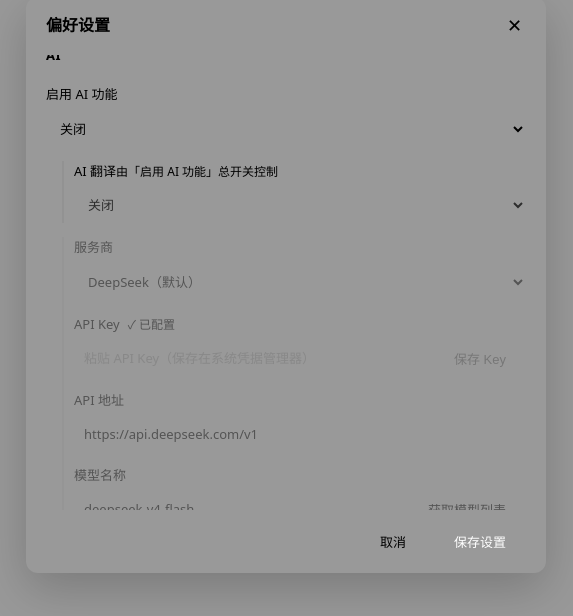
Test: v0.7.2 Key 状态按厂商独立探测 › 切换到未配置 Key 的厂商时状态显示未配置
(page scrolled)
Expected: the text with test id "translate-key-status" shows "已配置", [139,316,175,333]
Select "Kimi（月之暗面）" in the dropdown with test id "translate-provider". click: (300, 282)
box: [74,264,526,300]
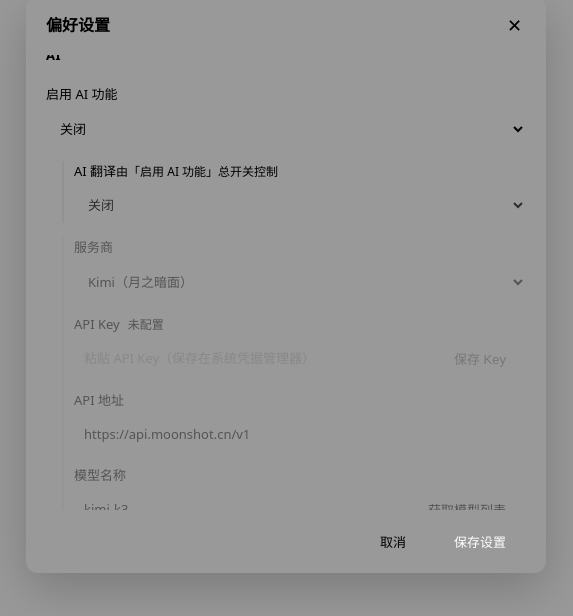
Expected: the text with test id "translate-key-status" reads "未配置", [128,316,164,333]
